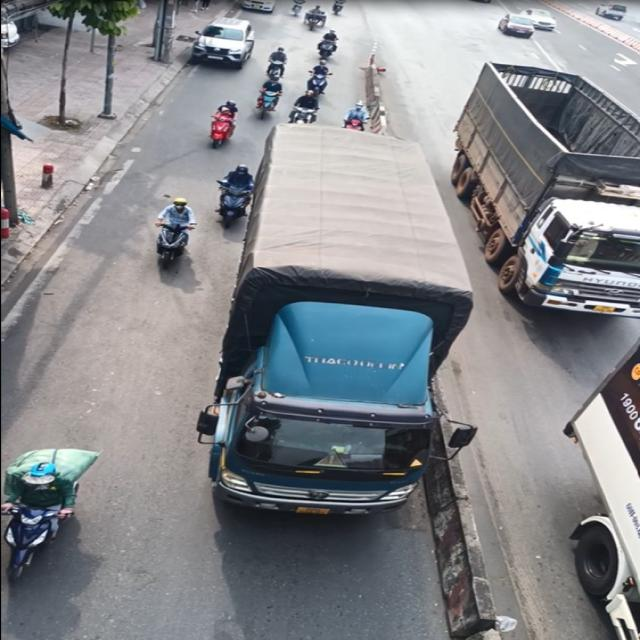car: (187, 9, 259, 66)
motor: (153, 194, 211, 278), (194, 97, 239, 154)
truck: (210, 126, 479, 541), (451, 62, 640, 320)
